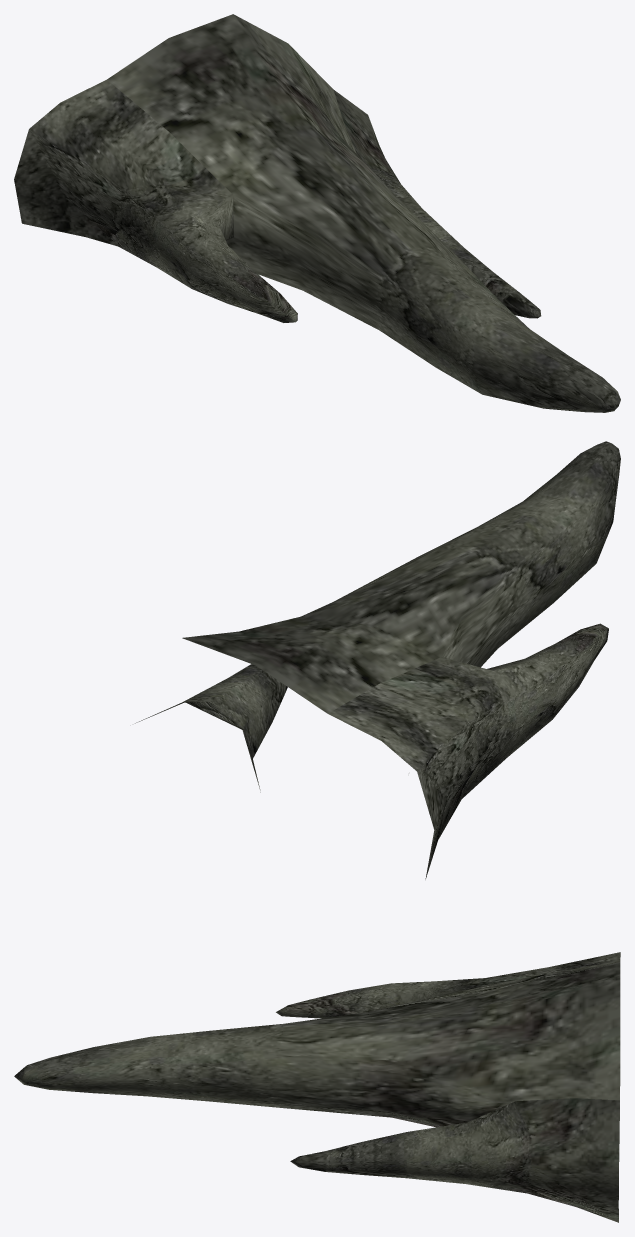
3 views of the same model, one above another, from view 1: azimuth 30°, elevation 25°; view 2: azimuth 150°, elevation 25°; view 3: azimuth 270°, elevation 25° (orthographic). The views are drawn at different scales.
Parts seen in each view (by area): view 1: model_Object49; view 2: model_Object49; view 3: model_Object49.
Boxes of the visible parts, bbox=[...] form: model_Object49: bbox=[14, 14, 620, 412]; model_Object49: bbox=[135, 441, 620, 879]; model_Object49: bbox=[14, 952, 620, 1222].
Size of the model in its own units: 0.8948 by 0.6188 by 1.62.
Materials: 1 (1 with a texture image).
